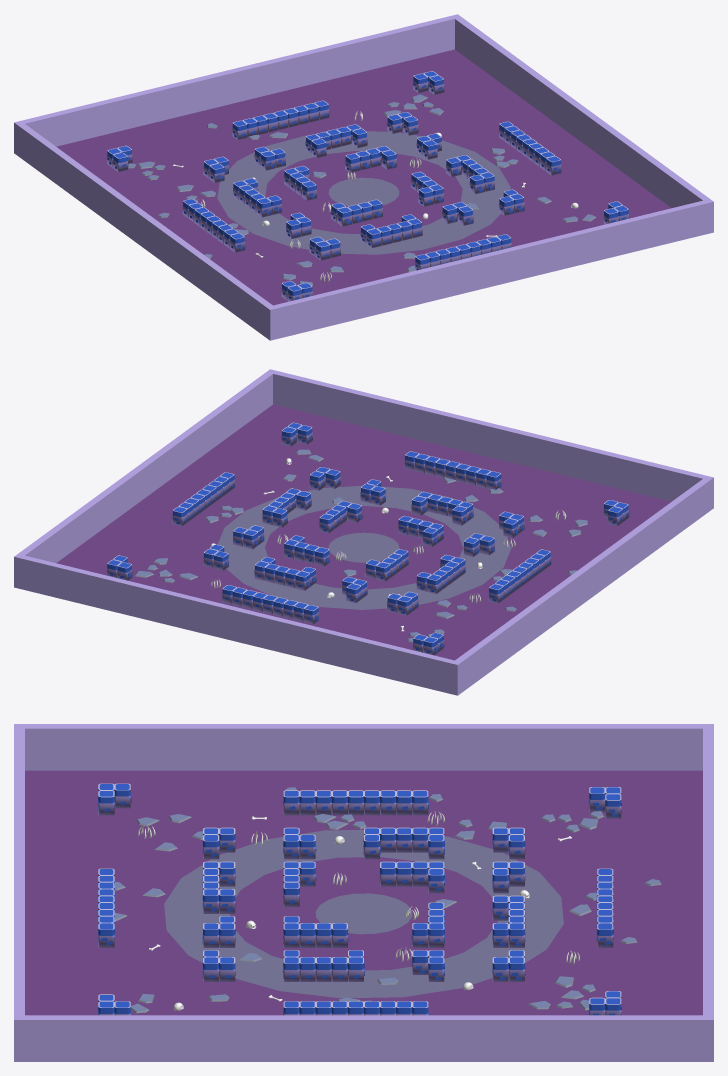
Rendered from Arena.glb.
3 renders of one model, top to bottom at view 1: azimuth 30°, elevation 25°; view 2: azimuth 150°, elevation 25°; view 3: azimuth 270°, elevation 25°, orthographic. The views are drawn at different scales.
Parts seen in each view (by area): view 1: Night_Plane; view 2: Night_Plane; view 3: Night_Plane.
Part boxes in pixels (bbox=[...]): Night_Plane: bbox=[14, 14, 713, 340]; Night_Plane: bbox=[14, 369, 713, 695]; Night_Plane: bbox=[14, 724, 713, 1061].
Size of the model in its own units: 87 by 5.96 by 87.
